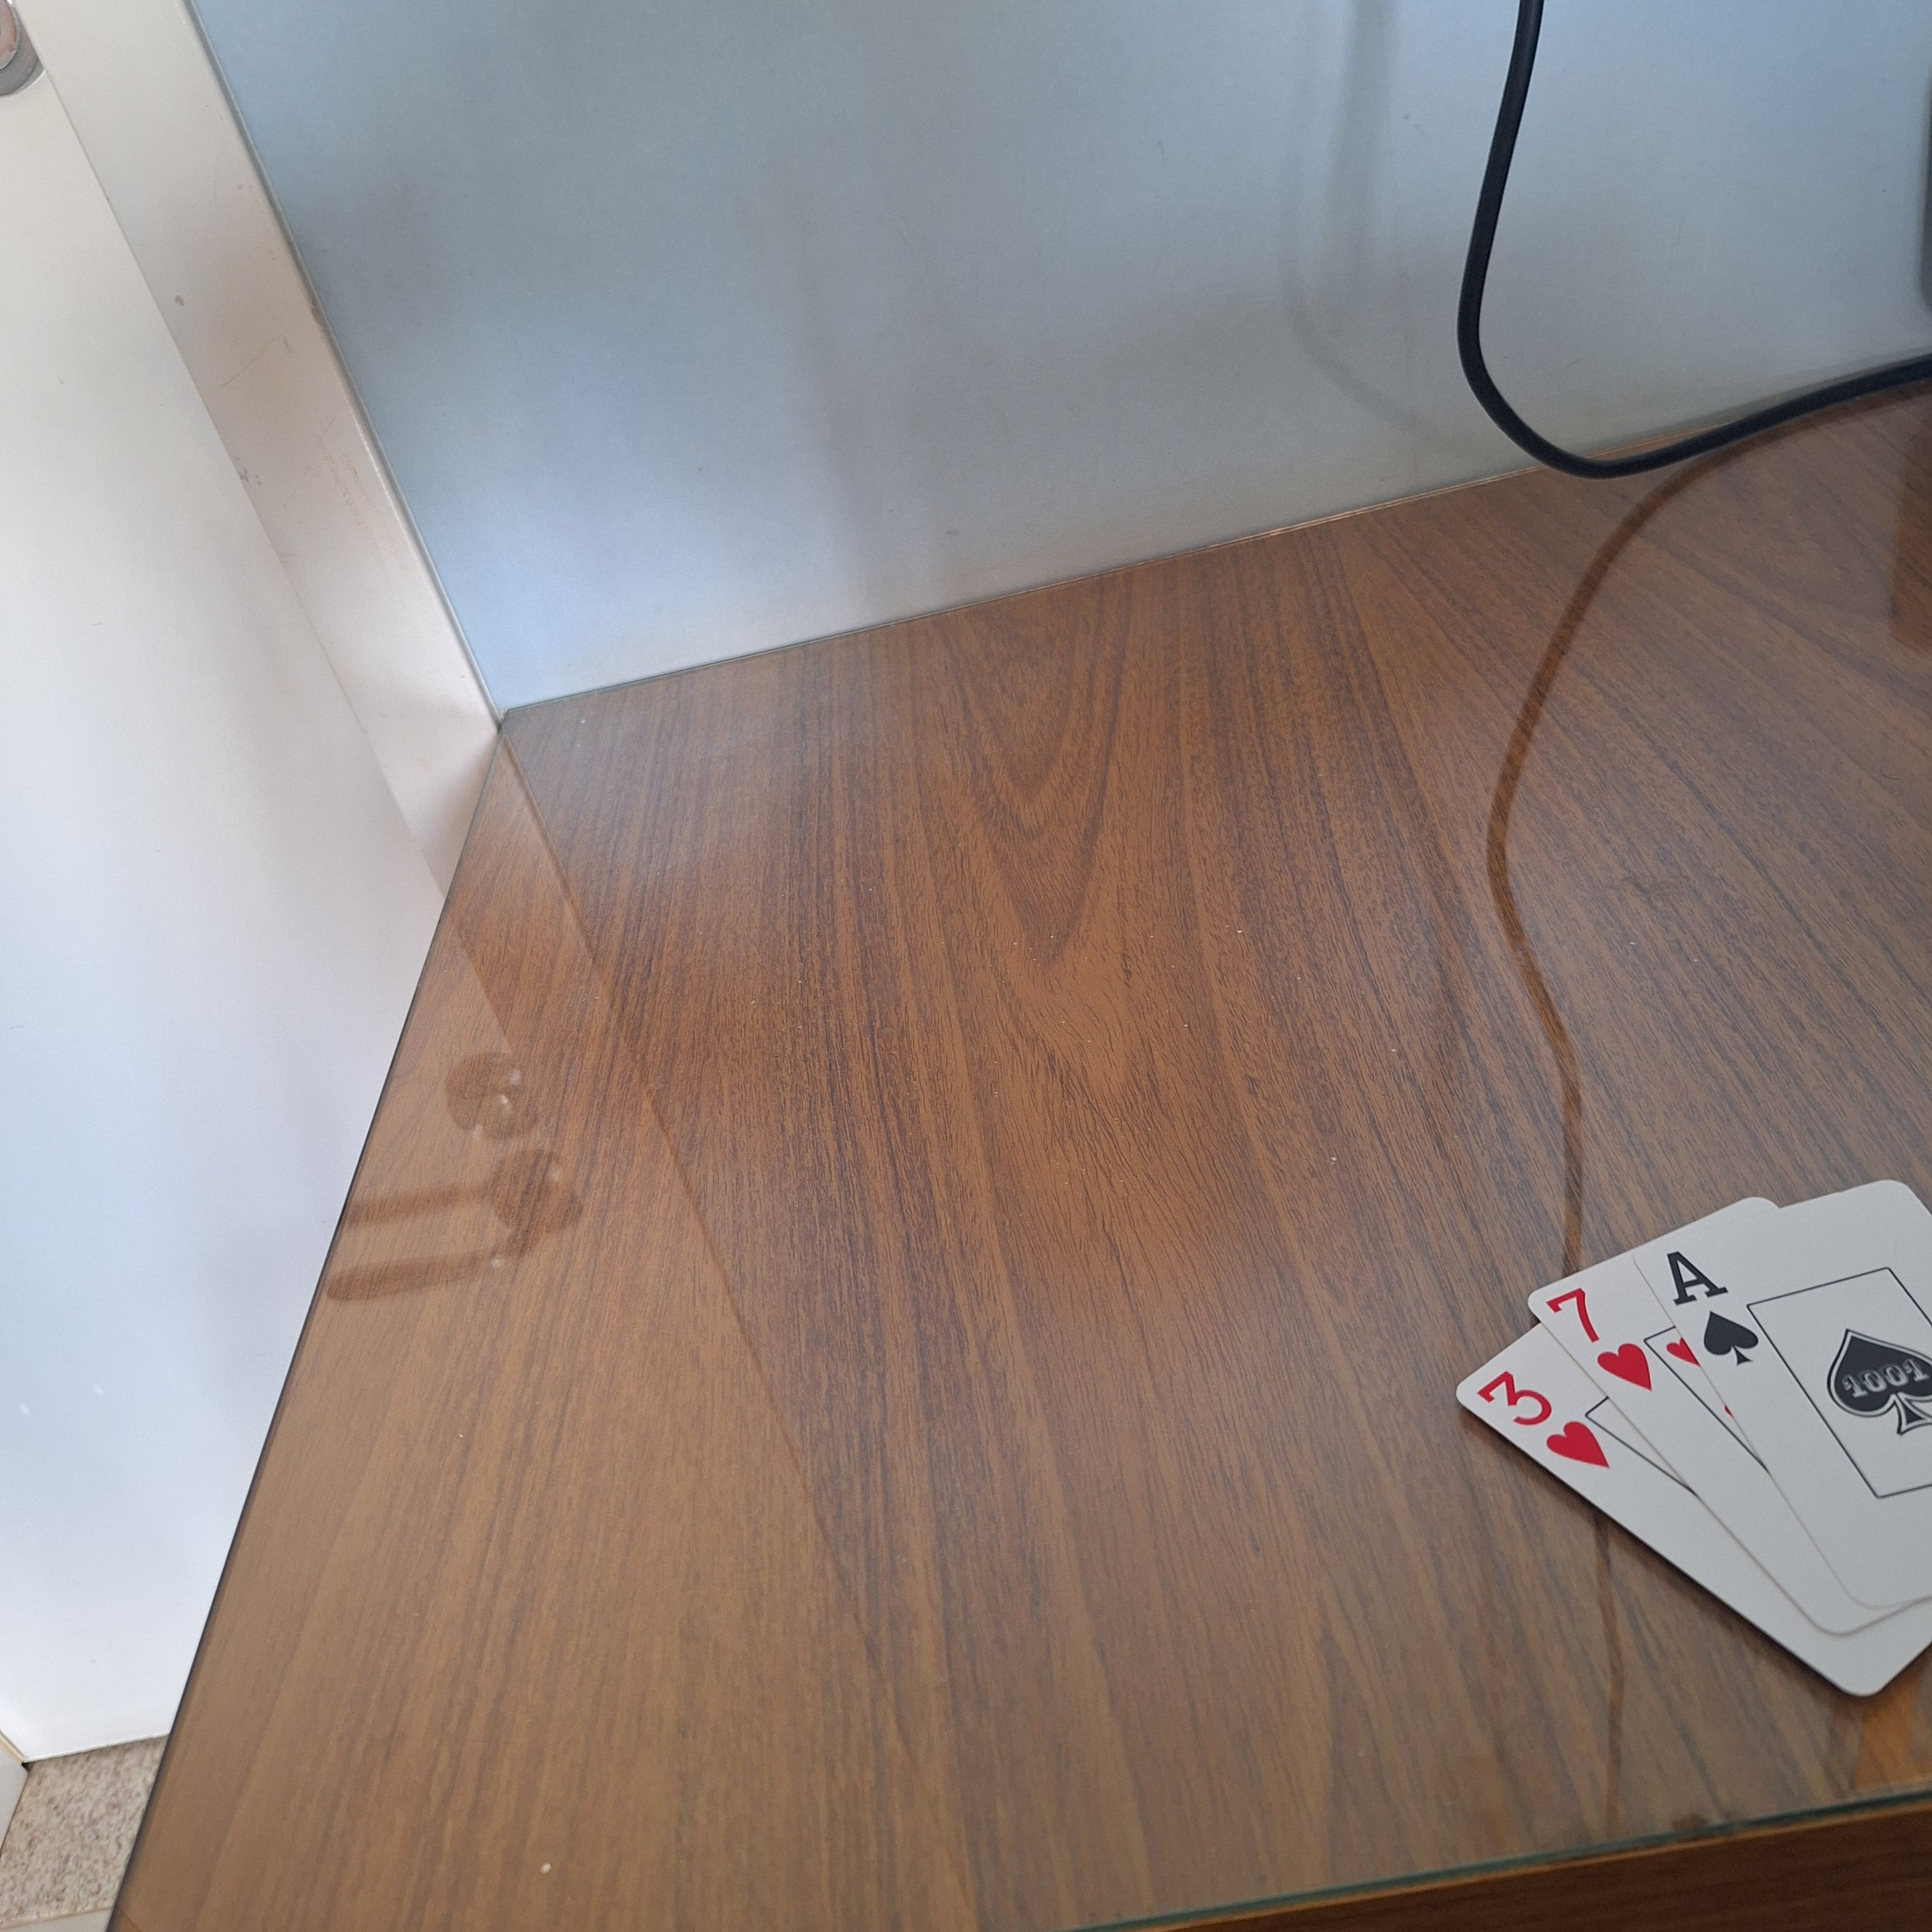3C: (1472, 1366, 1614, 1472)
7C: (1539, 1274, 1660, 1396)
AE: (1661, 1240, 1775, 1369)
